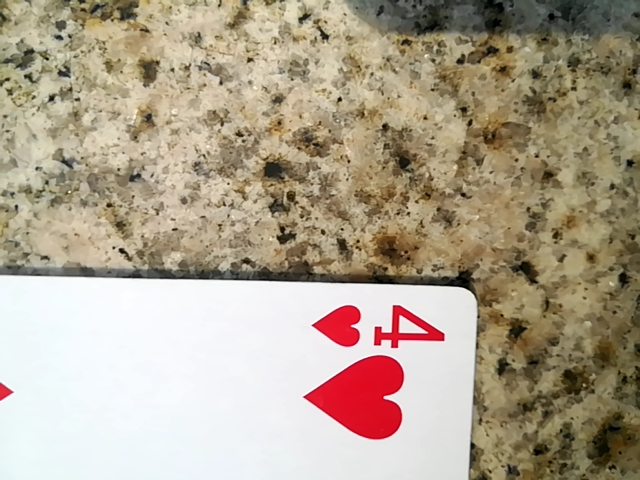hx 4: (0, 295, 471, 480)
